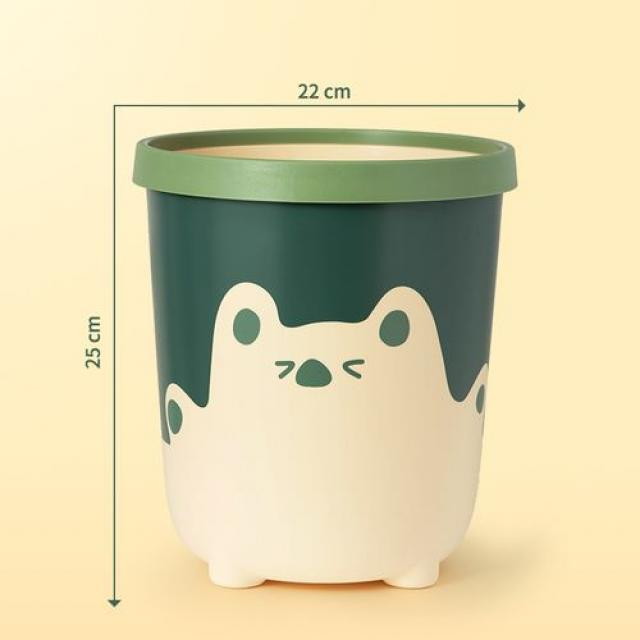Dustbin: (131, 122, 524, 594)
